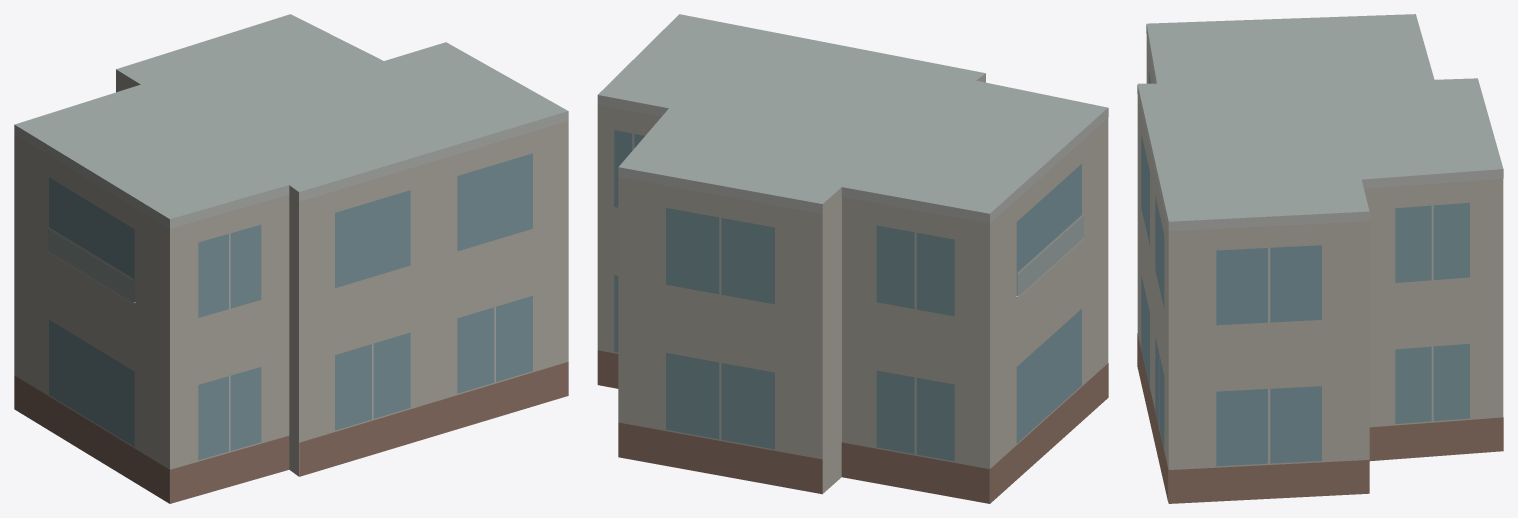
The model's file is survey-upis-32491767.glb.
3 renders of one model, left to right at view 1: azimuth 30°, elevation 25°; view 2: azimuth 150°, elevation 25°; view 3: azimuth 270°, elevation 25°, orthographic. The views are drawn at different scales.
Parts seen in each view (by area): view 1: survey-upis-32491767.tmp; view 2: survey-upis-32491767.tmp; view 3: survey-upis-32491767.tmp.
Boxes of the visible parts, x1,y1,x2,y2 form: survey-upis-32491767.tmp: (14, 14, 568, 503); survey-upis-32491767.tmp: (597, 14, 1108, 503); survey-upis-32491767.tmp: (1137, 14, 1503, 503).
Bounding box in the file's own units: 11.38 × 7.2 × 8.48.
